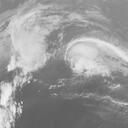cyclone: (64, 36, 117, 77)
